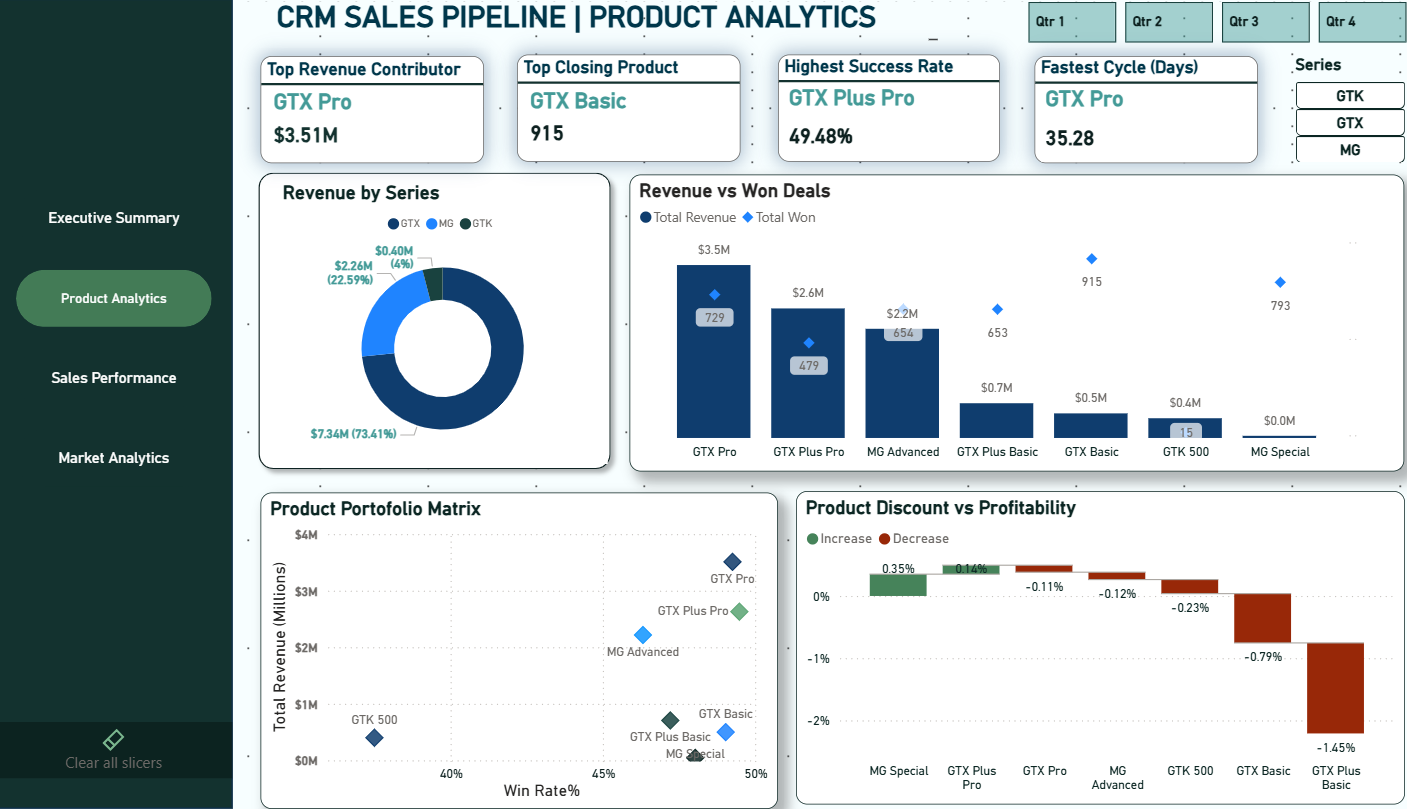

Layout of this report page (visuals, bound fields, positions):
{"tool":"powerbi","page":{"name":"Product Analytics","canvas":[1280,720],"ordinal":1},"visuals":[{"type":"shape","box":[0,0,211.3,719.7],"z":0,"group":"g1"},{"type":"shape","box":[224.7,145.7,330.9,281.5],"z":1000},{"type":"pageNavigator","box":[18.3,169,174.6,267.6],"z":1000,"group":"g1"},{"type":"textbox","title":"CRM SALES PIPELINE | PRODUCT ANALYTICS","box":[245.7,0,597.5,42],"z":2000},{"type":"donutChart","title":"Revenue by Series","fields":{"Y":["sales_pipeline.Total Revenue"],"Category":["products.series"]},"box":[250.6,161.7,293.8,251.9],"z":3000},{"type":"scatterChart","title":"Product Portofolio Matrix","fields":{"Category":["sales_pipeline.product"],"Y":["sales_pipeline.Total Revenue"],"X":["sales_pipeline.Win Rate %"]},"box":[235.7,438.6,460,281.4],"z":4000},{"type":"advancedSlicerVisual","fields":{"Values":["Calendar.Quarter"]},"box":[893.8,2.5,386.4,42],"z":5000},{"type":"cardVisual","title":"Top Revenue Contributor","fields":{"Data":["sales_pipeline.Top Product Name"]},"box":[235.8,50.6,198.8,95.1],"z":8000},{"type":"cardVisual","title":"Top Closing Product","fields":{"Data":["sales_pipeline.Top Closing Product Name"]},"box":[464.2,49.4,198.8,95.1],"z":9000},{"type":"cardVisual","title":"Highest Success Rate","fields":{"Data":["sales_pipeline.Top Win Rate Name"]},"box":[696.3,49.4,197.5,95.1],"z":10000},{"type":"cardVisual","title":"Fastest Cycle (Days)","fields":{"Data":["sales_pipeline.Fastest Product Name"]},"box":[923.5,50.6,198.8,95.1],"z":11000},{"type":"advancedSlicerVisual","title":"Series","fields":{"Values":["products.series"]},"box":[1150.6,49.4,121,100],"z":12000},{"type":"waterfallChart","title":"Product Discount vs Profitability","fields":{"Category":["sales_pipeline.product"],"Y":["sales_pipeline.Price Variance %"]},"box":[711.4,437.1,541.4,278.6],"z":13000},{"type":"lineStackedColumnComboChart","title":"Revenue vs Won Deals","fields":{"Category":["sales_pipeline.product"],"Y":["sales_pipeline.Total Revenue"],"Y2":["sales_pipeline.Total Won"]},"box":[564.2,155.6,688.9,264.2],"z":14000},{"type":"group","id":"g1","title":"Group 1","box":[0,0,211.3,719.7],"z":14001},{"type":"actionButton","box":[0,643,211,50],"z":14501,"group":"g1"}]}

Visuals, with their boxes on the page's 1280x720 design canvas (x1, y1, x2, y2). These are canvas units, not pixel positions in the 1407x809 screenshot, which may show the page scaled, cropped or inside an application window:
shape: left=0, top=0, right=211, bottom=720
shape: left=225, top=146, right=556, bottom=427
pageNavigator: left=18, top=169, right=193, bottom=437
"CRM SALES PIPELINE | PRODUCT ANALYTICS" textbox: left=246, top=0, right=843, bottom=42
"Revenue by Series" donutChart: left=251, top=162, right=544, bottom=414
"Product Portofolio Matrix" scatterChart: left=236, top=439, right=696, bottom=720
advancedSlicerVisual - Calendar.Quarter: left=894, top=2, right=1280, bottom=44
"Top Revenue Contributor" cardVisual: left=236, top=51, right=435, bottom=146
"Top Closing Product" cardVisual: left=464, top=49, right=663, bottom=144
"Highest Success Rate" cardVisual: left=696, top=49, right=894, bottom=144
"Fastest Cycle (Days)" cardVisual: left=924, top=51, right=1122, bottom=146
"Series" advancedSlicerVisual: left=1151, top=49, right=1272, bottom=149
"Product Discount vs Profitability" waterfallChart: left=711, top=437, right=1253, bottom=716
"Revenue vs Won Deals" lineStackedColumnComboChart: left=564, top=156, right=1253, bottom=420
"Group 1" group: left=0, top=0, right=211, bottom=720
actionButton: left=0, top=643, right=211, bottom=693
